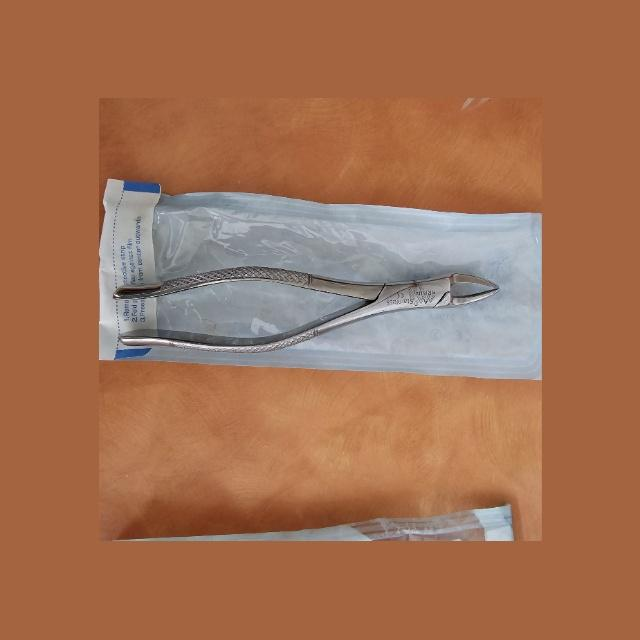forceps: (119, 270, 499, 352)
